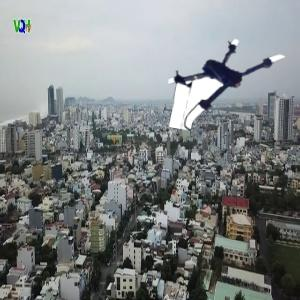drone: (170, 21, 287, 138)
